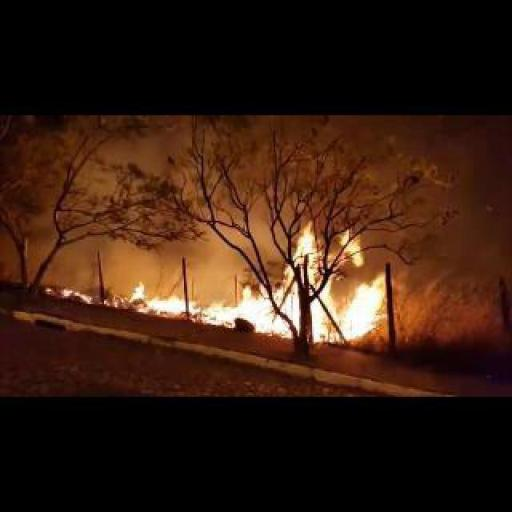smoke: (118, 220, 394, 338), (62, 288, 92, 302)
